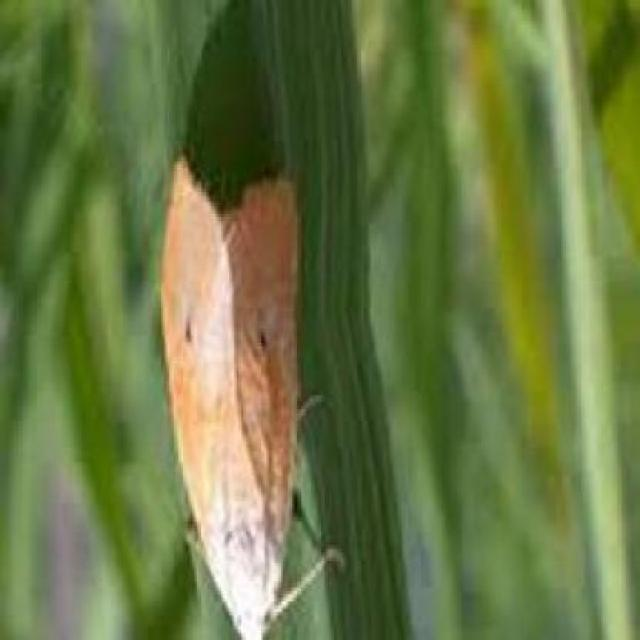stem-borer: (159, 155, 346, 640)
